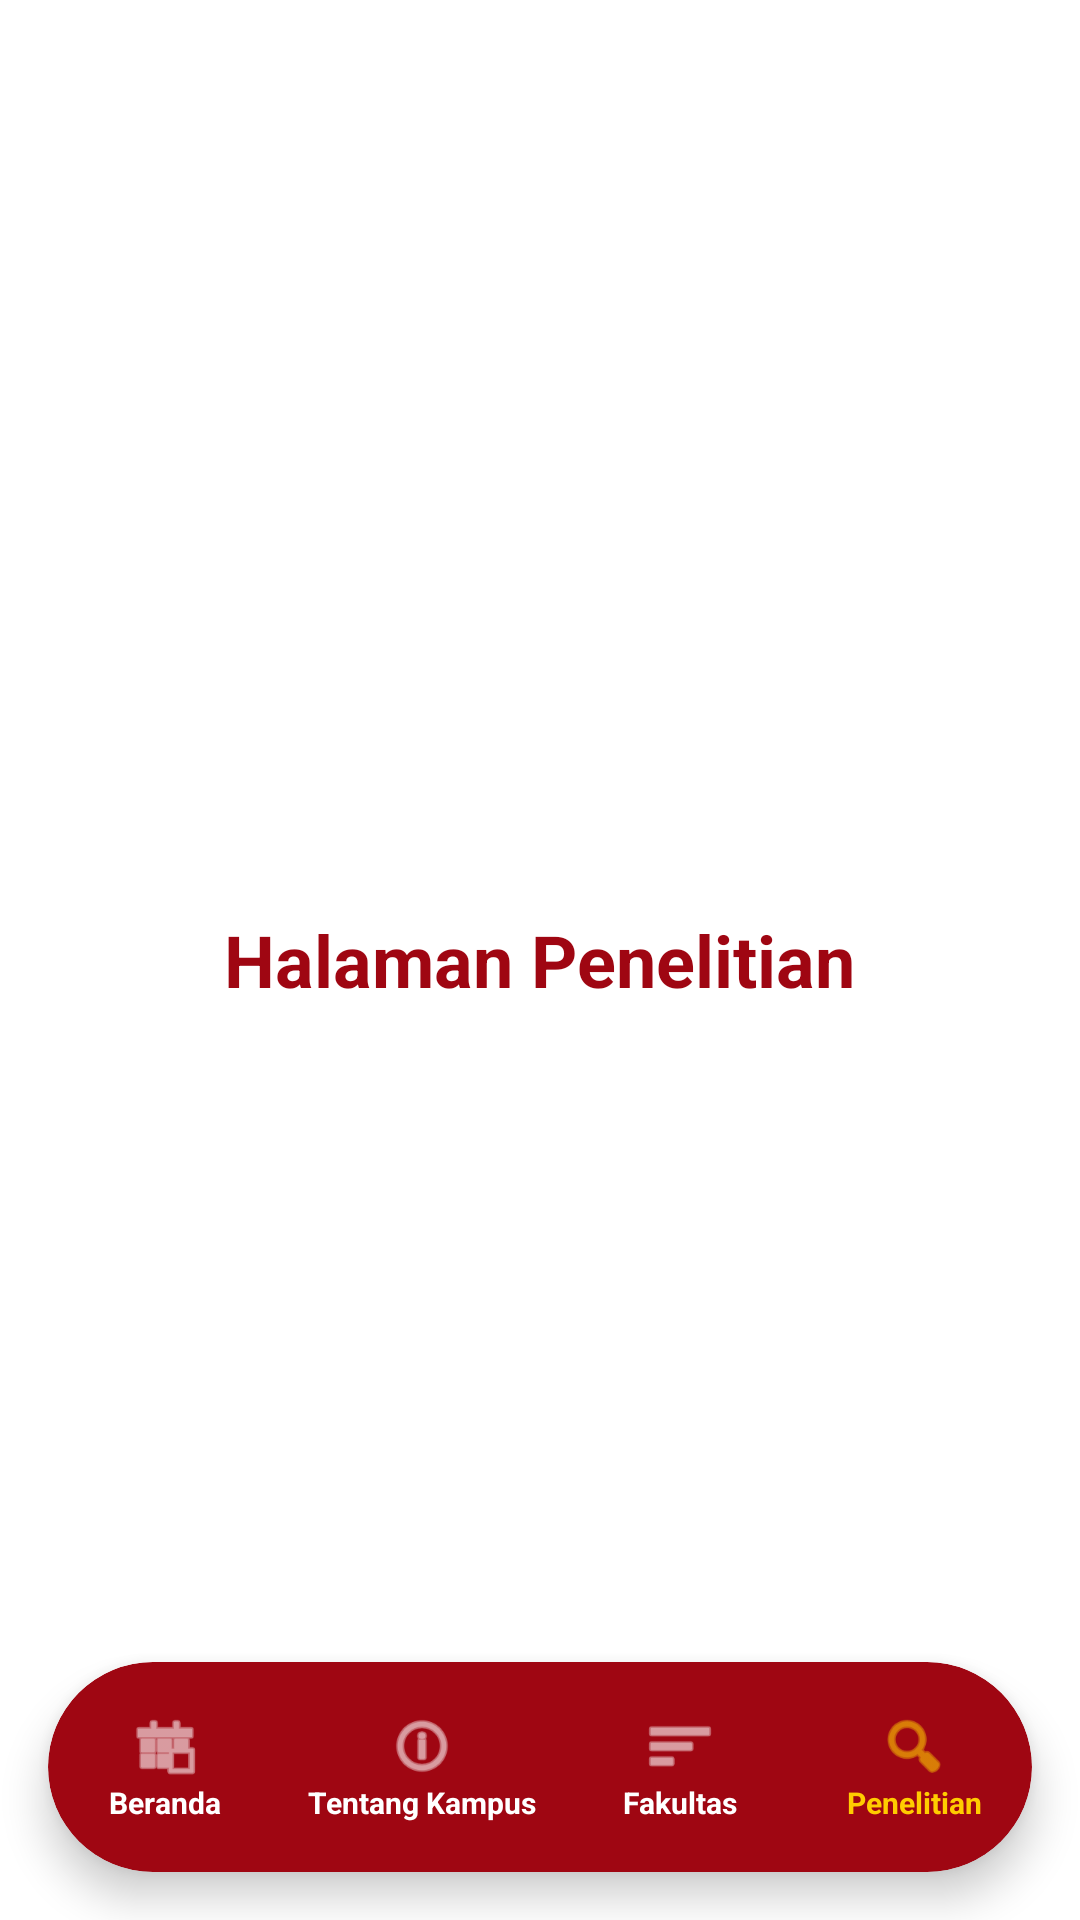

Named icons in this screenshot (1080x1920) and their bounding boxes, (x1, y1, x2, y2):
info details: (396, 1720, 448, 1772)
search: (887, 1720, 941, 1773)
sort by size: (649, 1726, 711, 1767)
today: (136, 1720, 195, 1775)
